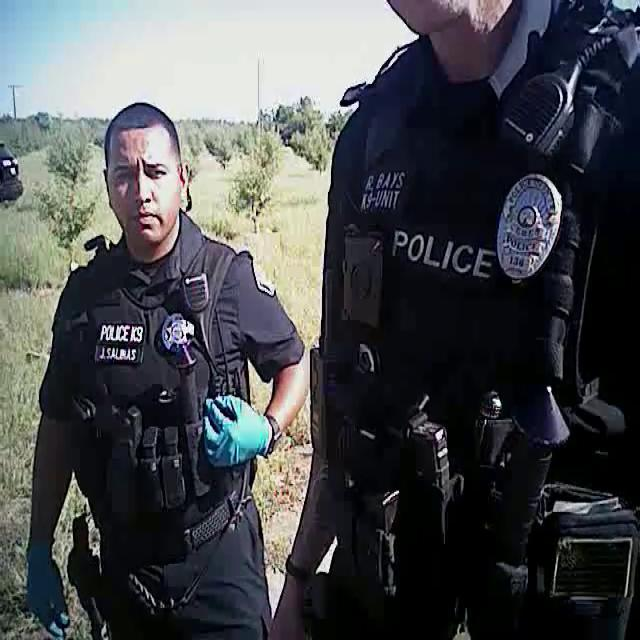gun: (60, 500, 116, 640)
